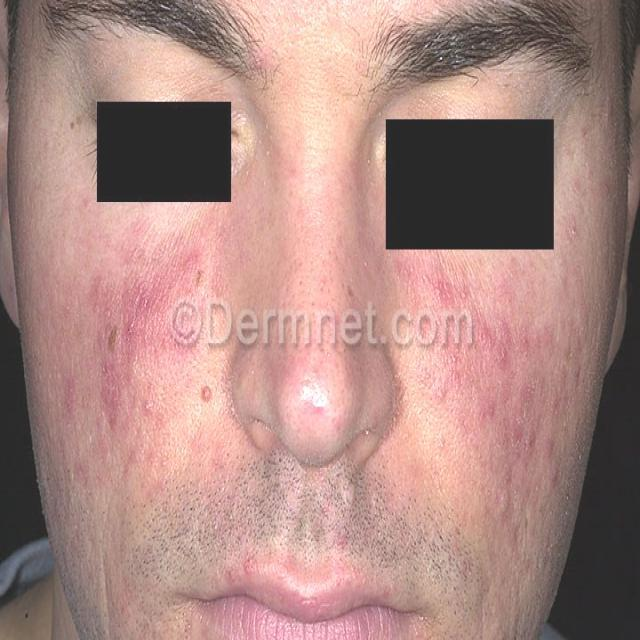Rosacea: (402, 266, 577, 497), (75, 222, 220, 416)
